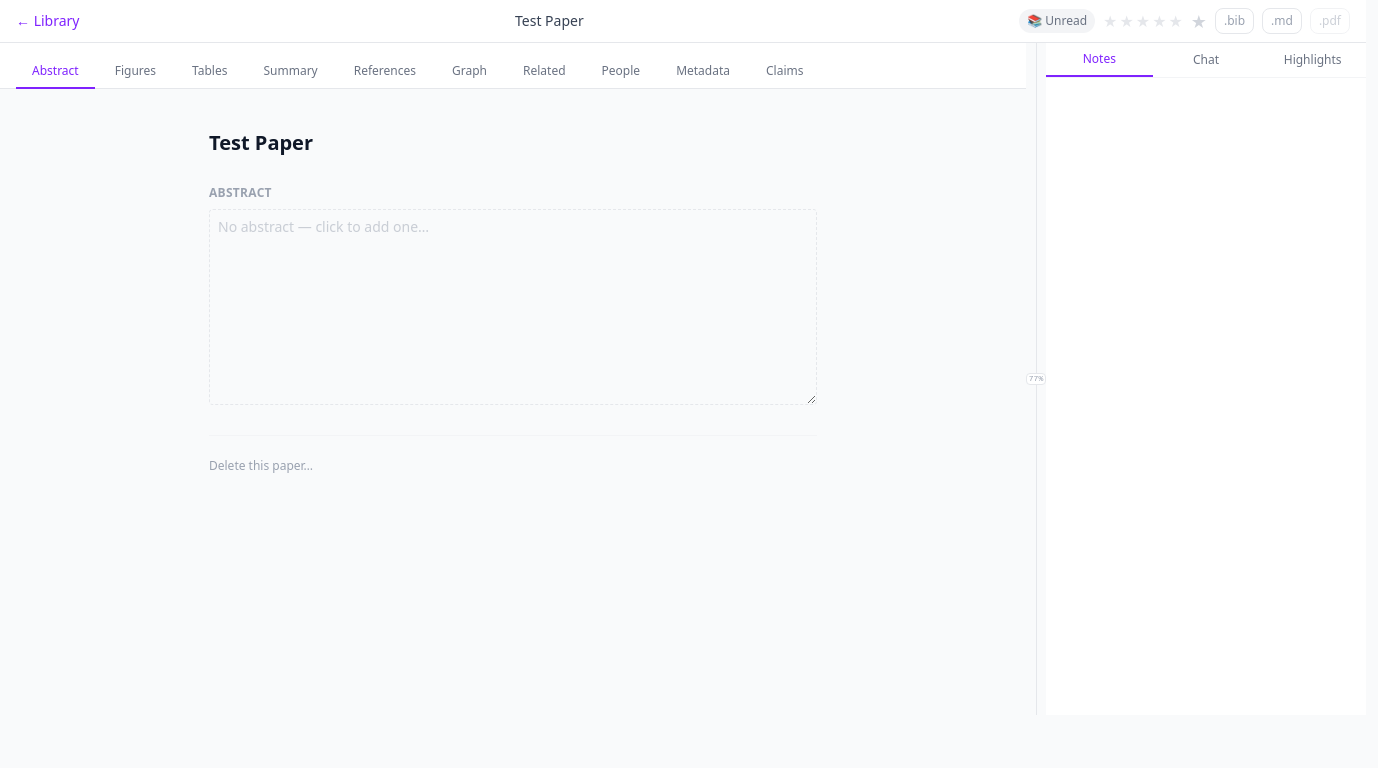
Test: PaperDetail — reading status › shows optimistic update immediately
The image size is (1378, 768).
Click the button titled "Click to cycle reading status" at (1057, 21), box [1019,9,1095,33]
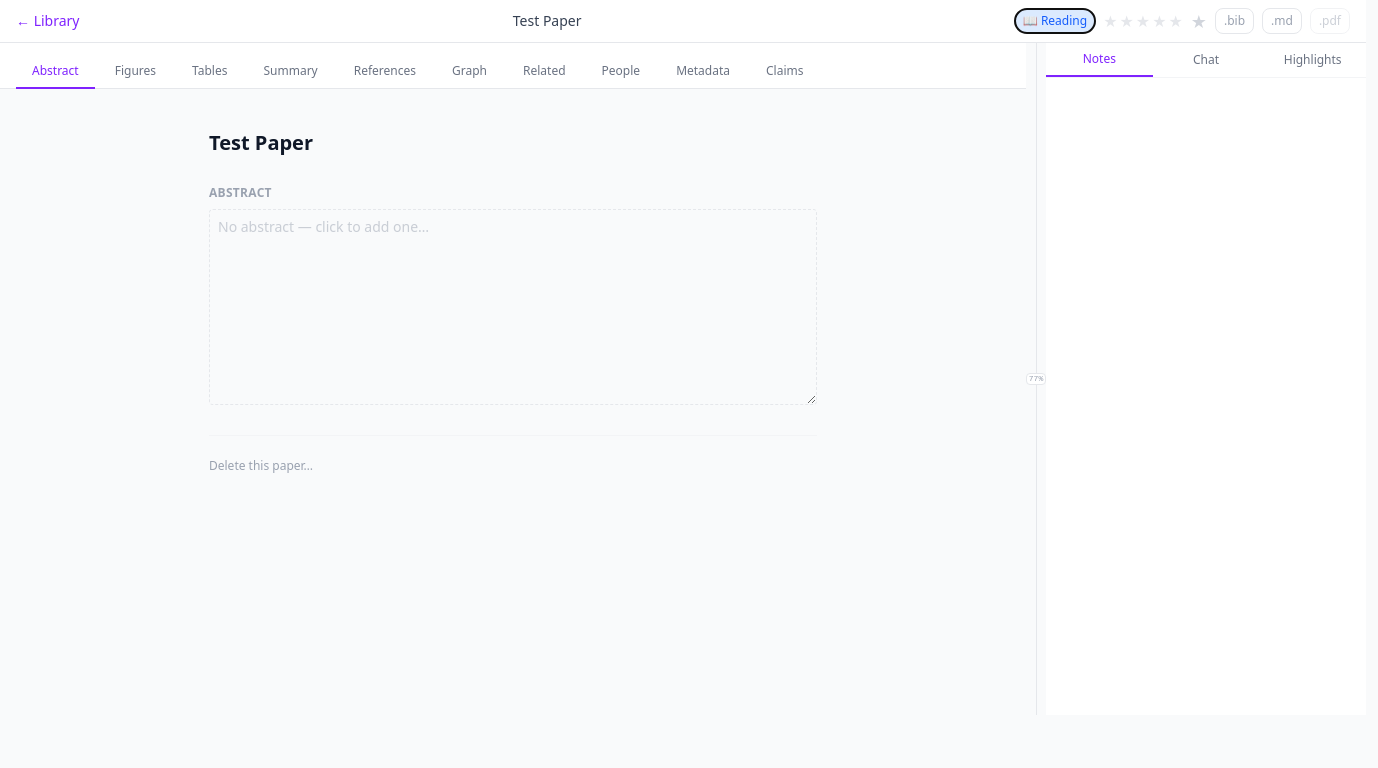
Now the button titled "Click to cycle reading status" is shown, box [1015,9,1095,33]
